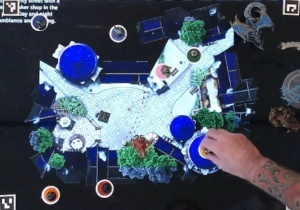blue: (30, 12, 49, 32)
green: (185, 45, 204, 63)
orange: (37, 183, 63, 206)
pink: (153, 62, 170, 83)
red: (93, 177, 115, 198)
violet: (106, 24, 127, 44)
yellow: (196, 139, 217, 160)
